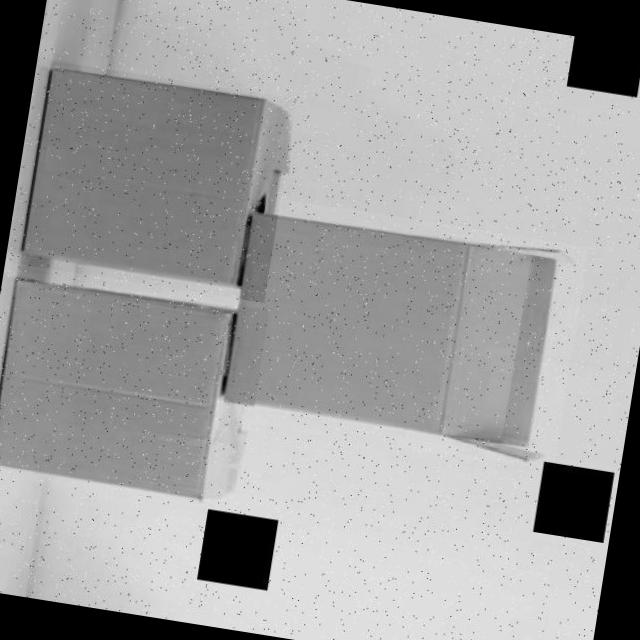box: (214, 193, 588, 472), (5, 59, 296, 303), (0, 267, 269, 512)
